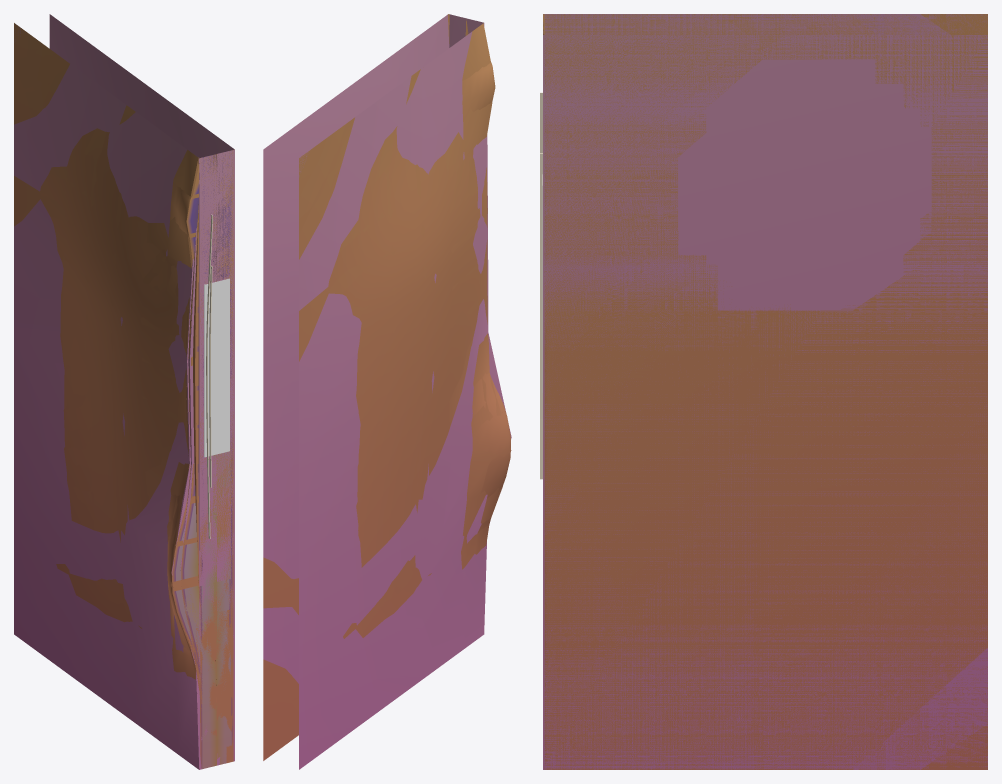
Rendered from Kit_DoorLeafBreak_Steel_DA_M0.fbx.
3 views of the same model, side by side, from view 1: azimuth 30°, elevation 25°; view 2: azimuth 150°, elevation 25°; view 3: azimuth 270°, elevation 25° (orthographic). The views are drawn at different scales.
Parts seen in each view (by area): view 1: cas_TORN_L2, cas_TORN_L0, cas_TORN_L1, cas_D1_L2, cas_M_L1, cas_M_L0, cas_D2_L0, cas_D1_L0, cas_D1_L1, cas_D2_L2, cas_D2_L1, leak_D2 (+1 smaller); view 2: cas_TORN_L2, cas_TORN_L0, cas_TORN_L1; view 3: cas_M_L0, cas_D1_L2, cas_M_L1, cas_D2_L2, cas_D1_L1, leak_D1.
Part boxes in pixels (x1,y1,x2,y2): cas_TORN_L2: [14, 14, 234, 769]; cas_TORN_L0: [14, 31, 233, 715]; cas_TORN_L1: [14, 43, 228, 720]; cas_D1_L2: [15, 28, 234, 769]; cas_M_L1: [200, 149, 234, 762]; cas_M_L0: [200, 150, 233, 766]; cas_D2_L0: [181, 210, 231, 768]; cas_D1_L0: [14, 23, 233, 769]; cas_D1_L1: [15, 24, 233, 762]; cas_D2_L2: [14, 26, 234, 767]; cas_D2_L1: [181, 309, 231, 762]; leak_D2: [206, 214, 212, 538]; cas_TORN_L2: [263, 14, 511, 769]; cas_TORN_L0: [263, 62, 510, 752]; cas_TORN_L1: [263, 14, 511, 740]; cas_M_L0: [543, 14, 987, 769]; cas_D1_L2: [543, 14, 987, 769]; cas_M_L1: [542, 14, 987, 769]; cas_D2_L2: [853, 14, 987, 769]; cas_D1_L1: [921, 14, 987, 769]; leak_D1: [540, 153, 542, 418].
Size of the model in its own units: 0.0782 by 0.72 by 0.3975.
